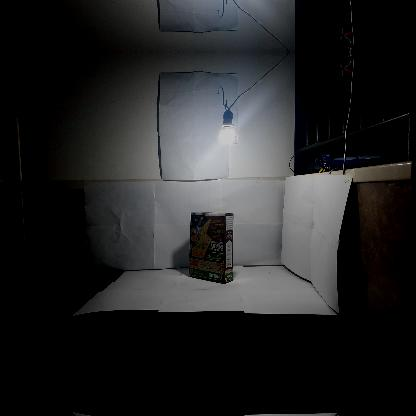Koko-Krunch: (189, 211, 233, 283)
